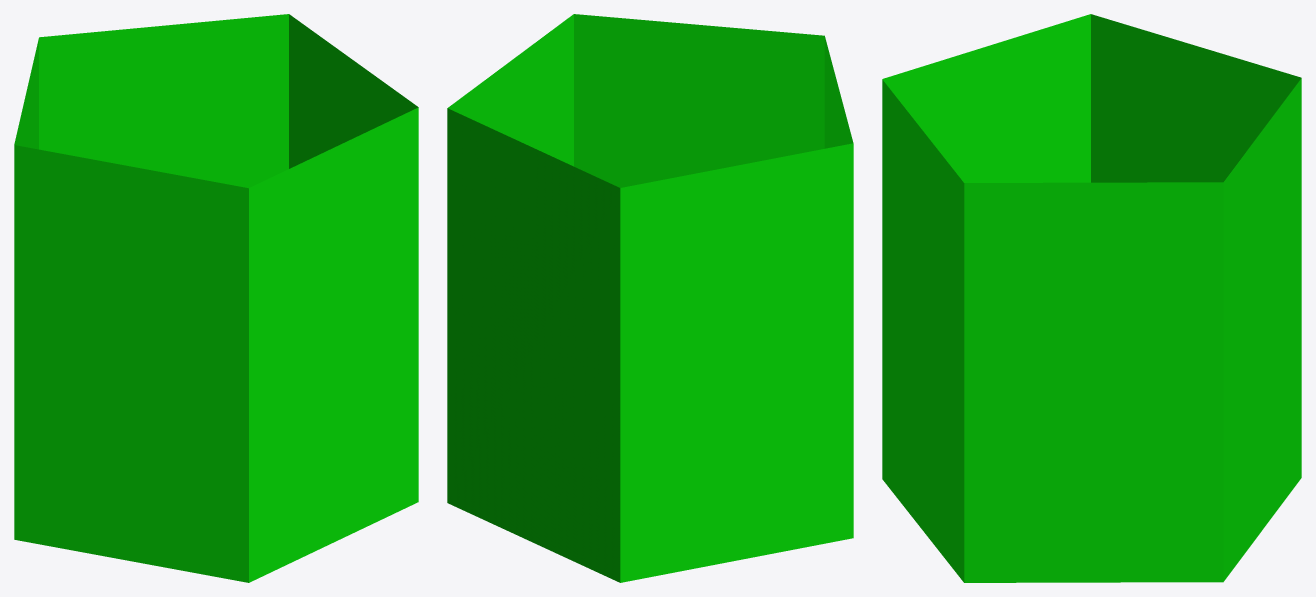
Rendered from decoracion cucheta.fbx.
The picture shows the model from 3 angles, left to right: view 1: azimuth 30°, elevation 25°; view 2: azimuth 150°, elevation 25°; view 3: azimuth 270°, elevation 25°; orthographic projection.
Parts seen in each view (by area): view 1: pCylinder4; view 2: pCylinder4; view 3: pCylinder4.
Part boxes in pixels (bbox=[...]): pCylinder4: bbox=[14, 14, 418, 582]; pCylinder4: bbox=[447, 14, 853, 582]; pCylinder4: bbox=[882, 14, 1301, 582].
Bounding box in the file's own units: 8 × 8.82 × 8.39.
1 material, 1 textured.
